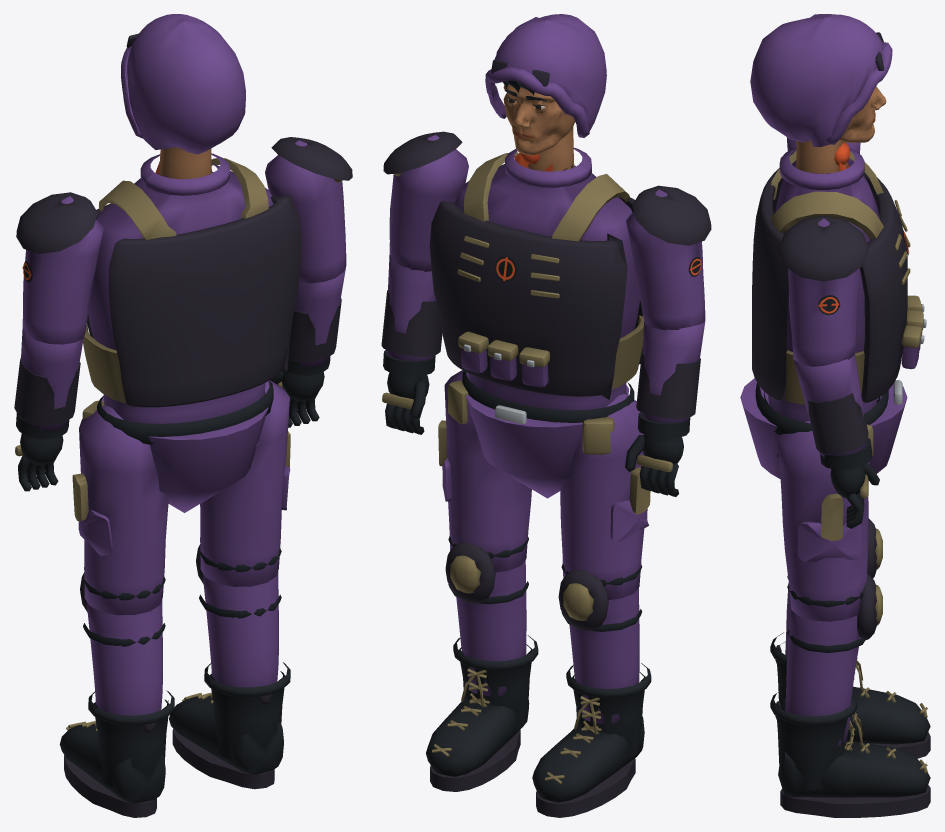
File: kf-sword.glb
3 renders of one model, left to right at view 1: azimuth 30°, elevation 25°; view 2: azimuth 150°, elevation 25°; view 3: azimuth 270°, elevation 25°, orthographic. The views are drawn at different scales.
Parts seen in each view (by area): view 1: Torso Ceramic armor, Torso Woven uniform, Leg_R Woven uniform, Head Woven uniform, Knee_L Rubber and hair, Knee_R Rubber and hair, Leg_L Woven uniform, Knee_L Woven uniform, Knee_R Woven uniform, Arm_R Woven uniform, Arm_L Woven uniform, Torso Webbing (+11 smaller); view 2: Torso Ceramic armor, Torso Woven uniform, Leg_R Woven uniform, Knee_R Rubber and hair, Knee_L Rubber and hair, Torso Webbing, Leg_L Woven uniform, Head Woven uniform, Arm_R Woven uniform, Arm_L Woven uniform, Knee_L Woven uniform, Knee_R Woven uniform (+17 smaller); view 3: Torso Ceramic armor, Head Woven uniform, Knee_L Rubber and hair, Leg_L Woven uniform, Torso Woven uniform, Knee_L Woven uniform, Torso Webbing, Arm_L Woven uniform, Knee_R Rubber and hair, Arm_L Ceramic armor, Elbow_L Ceramic armor, Elbow_L Woven uniform (+8 smaller).
Part boxes in pixels (left/top/right/bottom): Torso Ceramic armor: left=87, top=195, right=301, bottom=407; Torso Woven uniform: left=88, top=153, right=273, bottom=512; Leg_R Woven uniform: left=78, top=405, right=168, bottom=615; Head Woven uniform: left=121, top=14, right=245, bottom=154; Knee_L Rubber and hair: left=169, top=548, right=290, bottom=789; Knee_R Rubber and hair: left=59, top=576, right=174, bottom=817; Leg_L Woven uniform: left=200, top=380, right=290, bottom=586; Knee_L Woven uniform: left=202, top=571, right=278, bottom=687; Knee_R Woven uniform: left=86, top=599, right=162, bottom=715; Arm_R Woven uniform: left=22, top=196, right=103, bottom=344; Arm_L Woven uniform: left=265, top=140, right=346, bottom=283; Torso Webbing: left=82, top=158, right=268, bottom=419; Torso Ceramic armor: left=429, top=196, right=642, bottom=399; Torso Woven uniform: left=454, top=147, right=640, bottom=498; Leg_R Woven uniform: left=560, top=394, right=648, bottom=599; Knee_R Rubber and hair: left=532, top=563, right=651, bottom=817; Knee_L Rubber and hair: left=426, top=536, right=538, bottom=791; Torso Webbing: left=448, top=152, right=643, bottom=454; Leg_L Woven uniform: left=442, top=370, right=531, bottom=572; Head Woven uniform: left=485, top=14, right=606, bottom=137; Arm_R Woven uniform: left=626, top=189, right=705, bottom=330; Arm_L Woven uniform: left=389, top=135, right=468, bottom=271; Knee_L Woven uniform: left=456, top=560, right=526, bottom=695; Knee_R Woven uniform: left=569, top=588, right=639, bottom=723; Torso Ceramic armor: left=752, top=168, right=907, bottom=407; Head Woven uniform: left=750, top=14, right=892, bottom=146; Knee_L Rubber and hair: left=770, top=583, right=930, bottom=817; Leg_L Woven uniform: left=777, top=421, right=869, bottom=621; Torso Woven uniform: left=740, top=147, right=920, bottom=479; Knee_L Woven uniform: left=785, top=608, right=860, bottom=746; Torso Webbing: left=771, top=151, right=923, bottom=456; Arm_L Woven uniform: left=788, top=218, right=859, bottom=366; Knee_R Rubber and hair: left=770, top=575, right=930, bottom=758; Arm_L Ceramic armor: left=778, top=215, right=869, bottom=281; Elbow_L Ceramic armor: left=808, top=393, right=868, bottom=454; Elbow_L Woven uniform: left=794, top=352, right=866, bottom=457.
Size of the model in its own units: 0.8398 by 1.9 by 0.4327.
